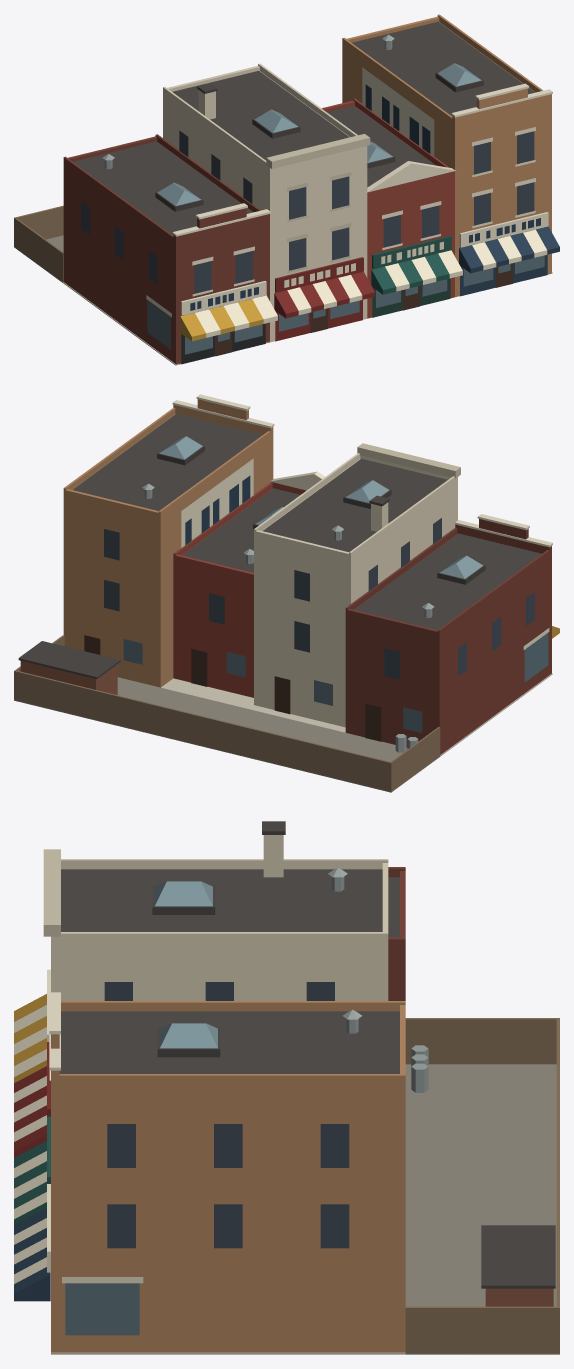
The model's file is highstreet_we.glb.
3 views of the same model, one above another, from view 1: azimuth 30°, elevation 25°; view 2: azimuth 150°, elevation 25°; view 3: azimuth 270°, elevation 25° (orthographic). The views are drawn at different scales.
Parts seen in each view (by area): view 1: highstreet_we; view 2: highstreet_we; view 3: highstreet_we.
Boxes of the visible parts, box(x1,y1,x2,y2) form: highstreet_we: box(14, 14, 559, 365); highstreet_we: box(14, 394, 559, 792); highstreet_we: box(14, 821, 559, 1354).
Bounding box in the file's own units: 18 × 9.18 × 14.33.
